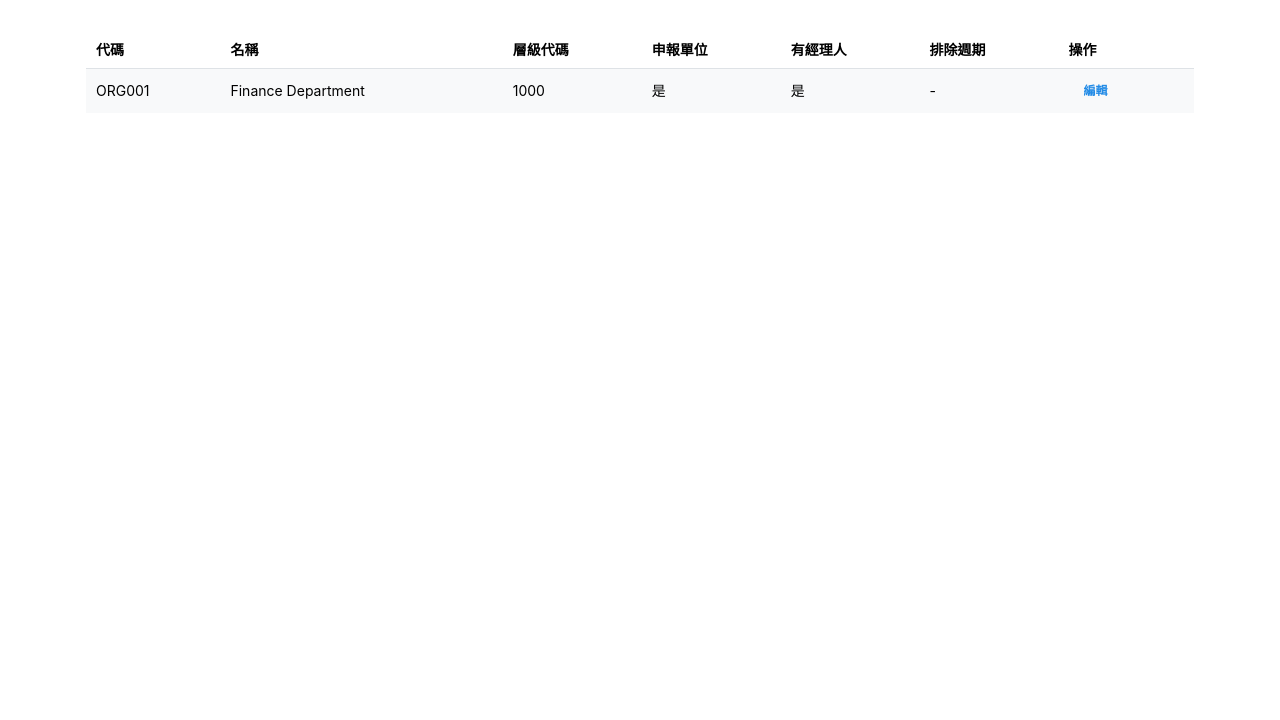
Scenario: OrgTreePage › opens edit modal when edit button is clicked
The width and height of the screenshot is (1280, 720).
expect the text "Finance Department" is shown: met, box [220,68,503,113]
Click the button "編輯": click(1096, 91) [1069,76,1123,106]
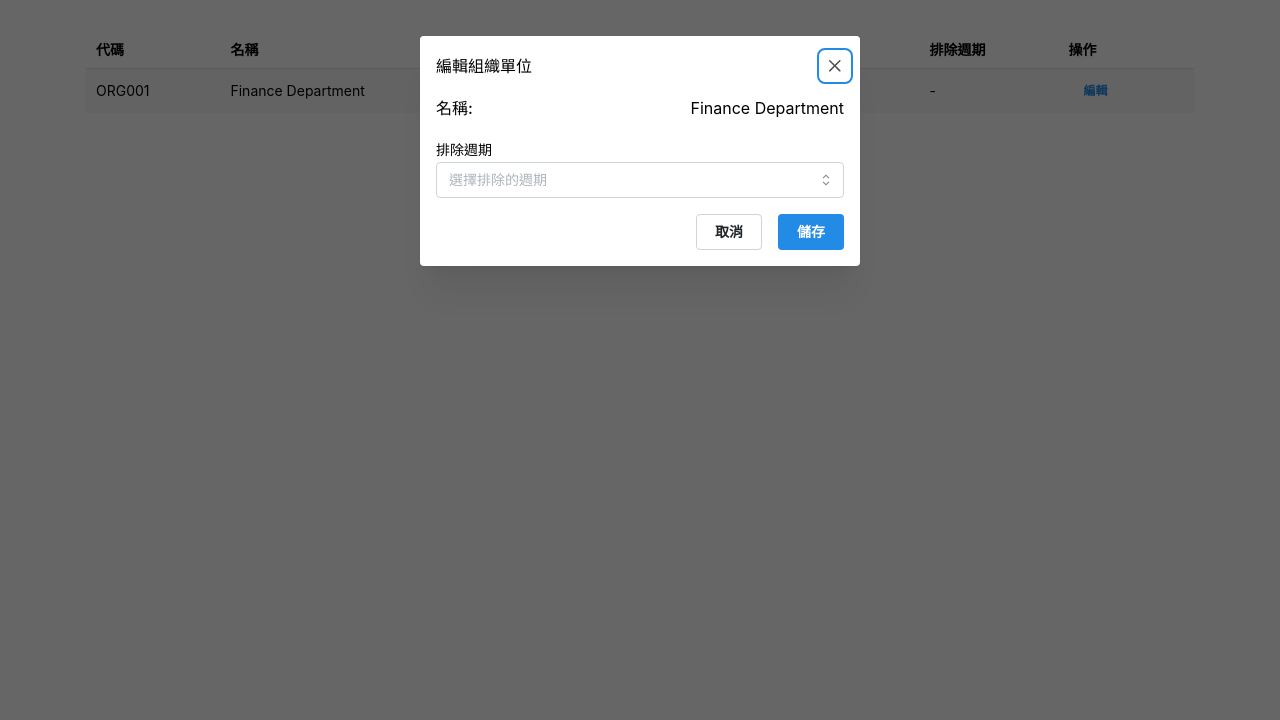
expect the heading "編輯組織單位" is shown: met, box [436,58,532,74]
